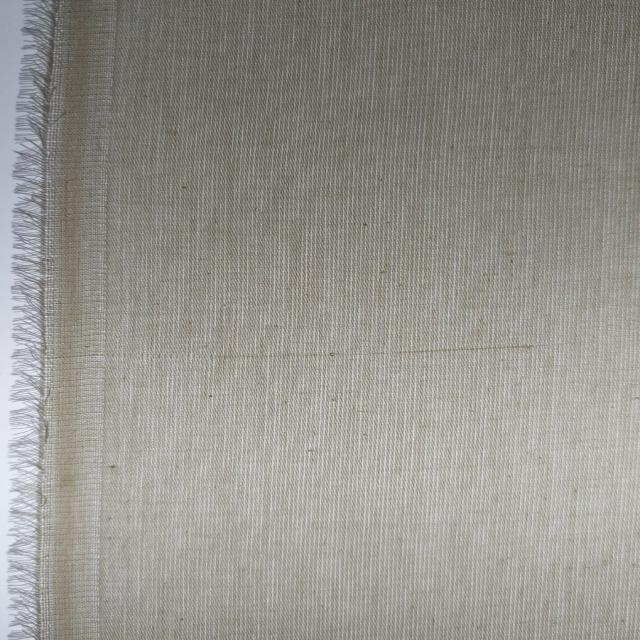stains: (170, 328, 582, 386)
